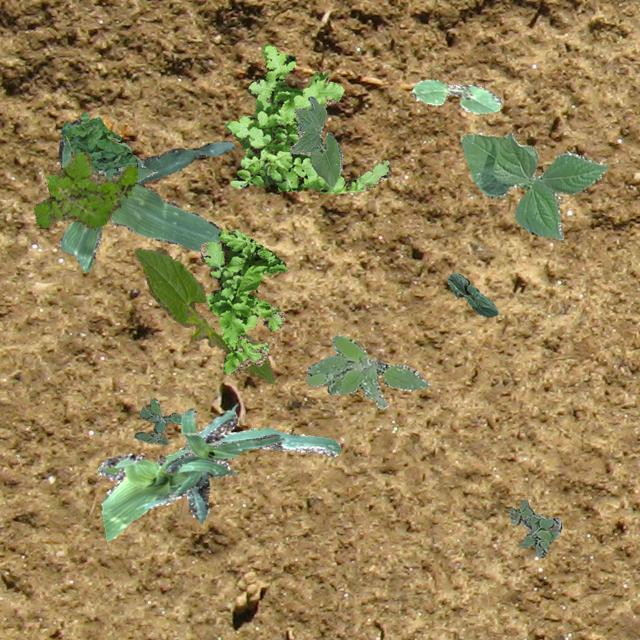crop: (96, 404, 340, 540), (58, 117, 232, 270), (133, 246, 273, 382), (460, 132, 606, 240), (164, 408, 284, 472), (288, 96, 342, 186), (412, 78, 502, 112), (61, 156, 156, 182), (446, 272, 496, 316)
weed: (224, 42, 390, 192), (198, 228, 286, 374), (304, 334, 428, 408), (32, 152, 136, 226), (60, 110, 136, 178), (508, 498, 560, 556), (132, 398, 180, 444)
